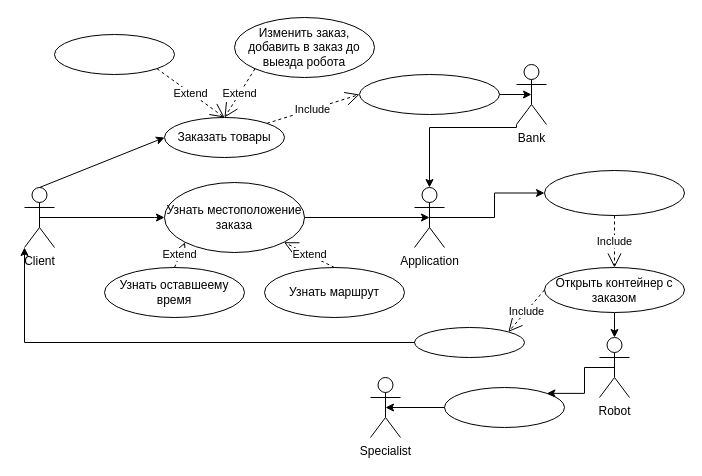
This 702x476 diagram has some shape labels left out. The box of each missing label's shape, as (x1, y1, x2, y2) in pixels:
Ввести пин-код: (414, 326, 524, 358)
Возникла ошибка при доставке: (444, 386, 564, 428)
Выбор врмени доставки: (54, 34, 174, 74)
Доставить до места заказа товары: (544, 170, 684, 216)
Оплатить онлайн: (358, 74, 500, 114)
